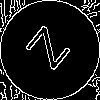Z: (25, 25, 80, 77)
